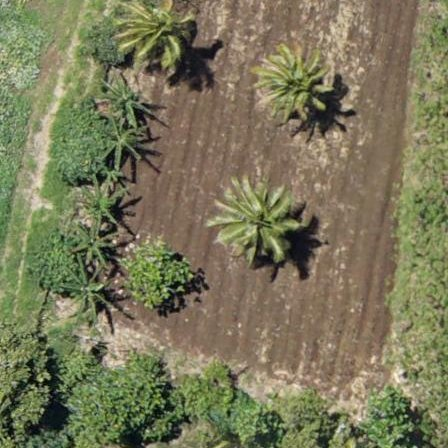palm_tree: (211, 171, 305, 271), (250, 32, 340, 128), (114, 0, 195, 76)
